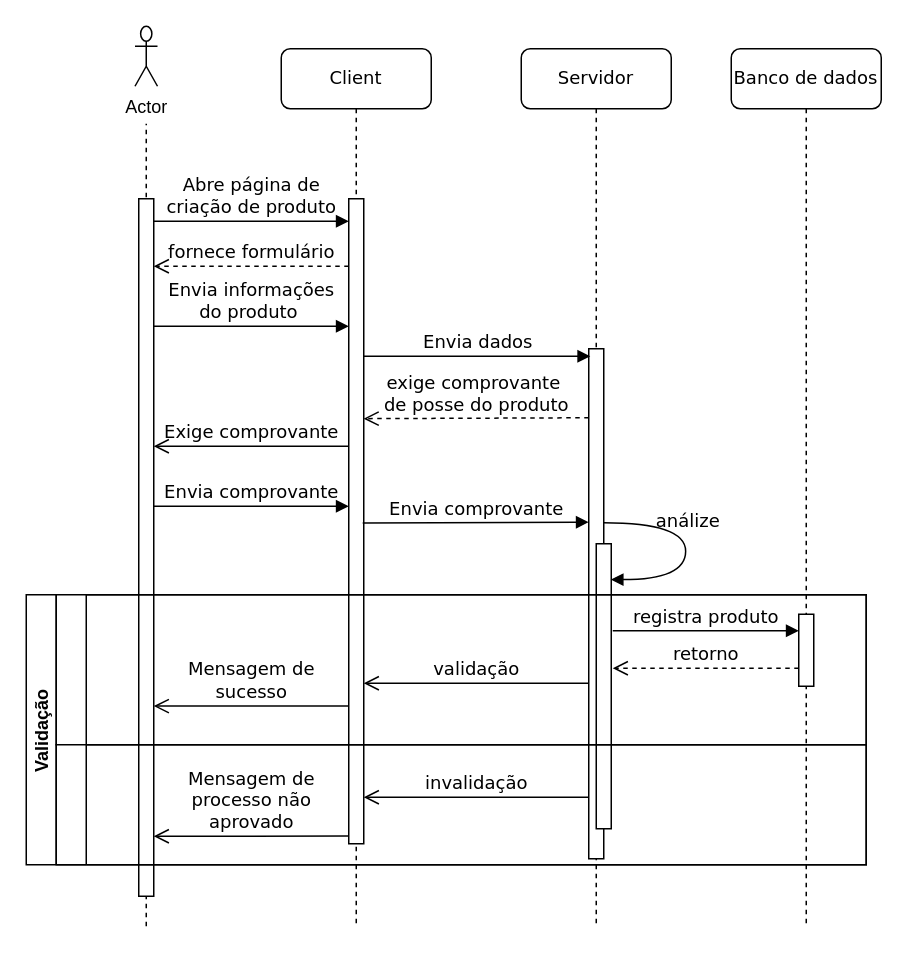
Some shapes in this 908 by 954 pixel diagram are drawn without their labels. The shapes that lost their labels are listed below. From the top down, each one's centre as x and y in pixels, then its label:
the point at 460,669: Válido
the point at 460,804: Inválido
